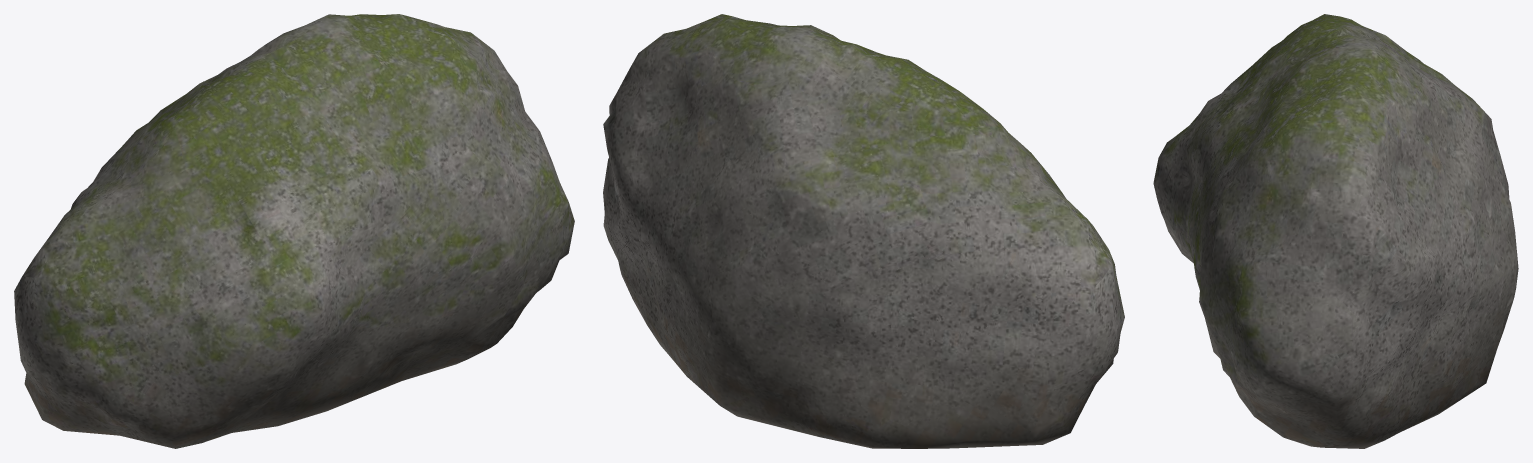
The model's file is kamen_maly_1.glb.
3 views of the same model, side by side, from view 1: azimuth 30°, elevation 25°; view 2: azimuth 150°, elevation 25°; view 3: azimuth 270°, elevation 25° (orthographic).
Visible parts, largest first — view 1: kamen_maly_1; view 2: kamen_maly_1; view 3: kamen_maly_1.
Boxes of the visible parts, bbox=[...] form: kamen_maly_1: bbox=[14, 14, 574, 448]; kamen_maly_1: bbox=[603, 14, 1124, 448]; kamen_maly_1: bbox=[1153, 14, 1518, 448].
Bounding box in the file's own units: 0.2911 × 0.186 × 0.1758.
1 material, 1 textured.
